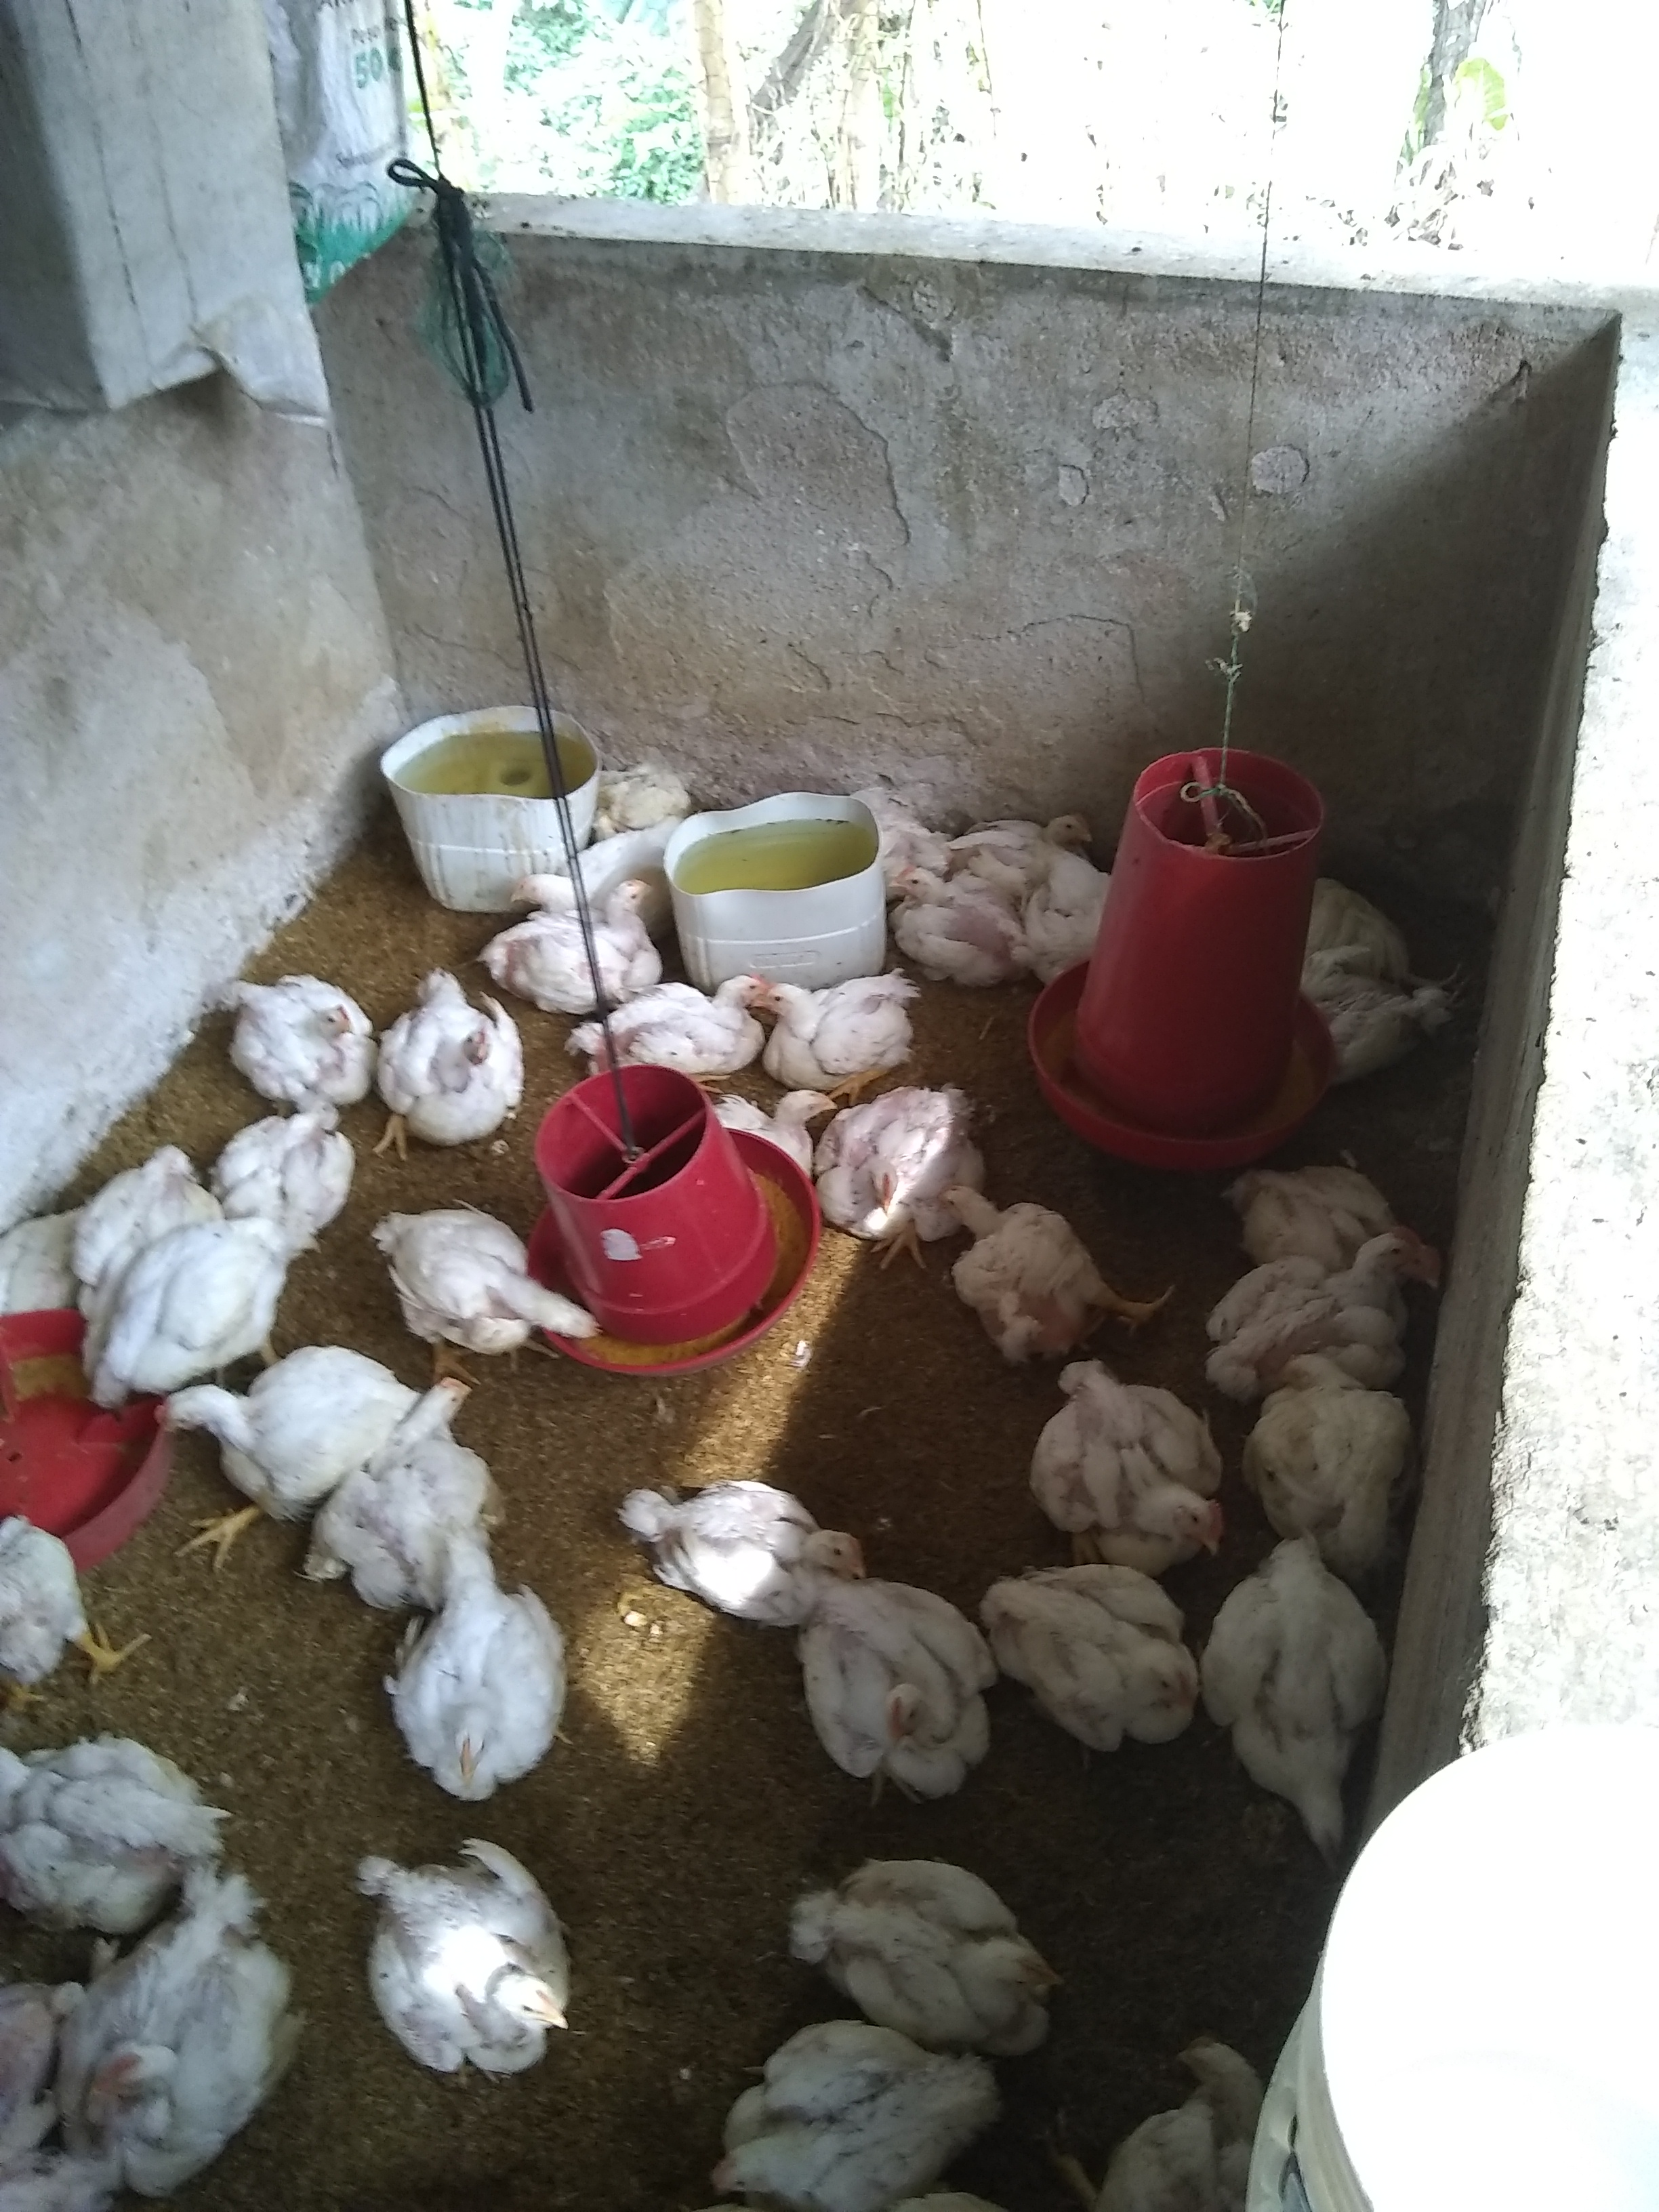Pollos: (75, 1904, 268, 2195), (347, 1839, 577, 2074), (1216, 1538, 1370, 1867), (701, 2033, 995, 2203), (824, 1858, 1065, 2047), (390, 1548, 563, 1806), (802, 1583, 1002, 1789), (993, 1564, 1204, 1749), (936, 1177, 1164, 1339), (155, 1343, 355, 1522), (1040, 1366, 1225, 1557), (110, 1211, 301, 1385), (378, 1209, 610, 1345), (1216, 1231, 1425, 1381), (1248, 1353, 1413, 1540), (627, 1477, 866, 1595), (1105, 2036, 1260, 2181), (1333, 902, 1474, 1050), (359, 1367, 483, 1529), (889, 867, 1032, 981), (814, 1083, 927, 1224), (390, 1000, 518, 1125), (762, 974, 918, 1075), (237, 977, 368, 1083), (225, 1108, 347, 1219), (633, 967, 765, 1066), (730, 1082, 840, 1162), (591, 759, 692, 843), (955, 813, 1094, 859), (601, 876, 652, 989), (511, 862, 582, 927)
